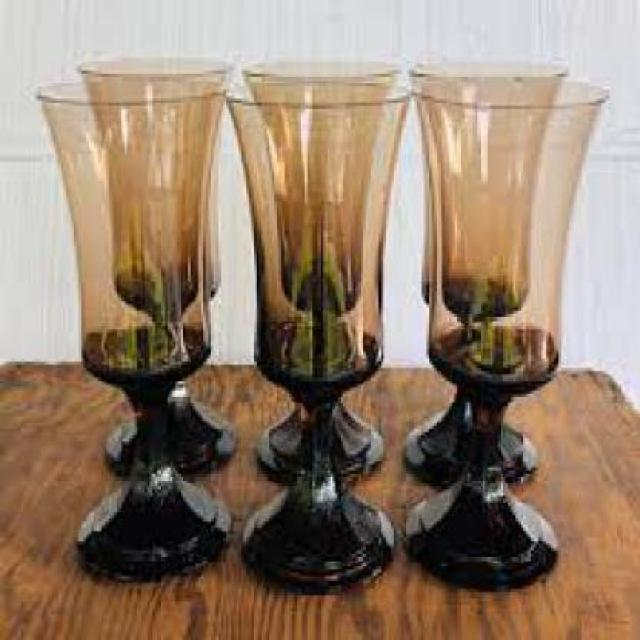kaca: (397, 74, 608, 586), (35, 83, 234, 580), (222, 77, 409, 592), (77, 54, 238, 474), (242, 57, 403, 474), (398, 62, 536, 483)
